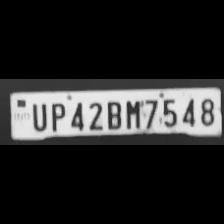2: (86, 99, 102, 131)
4: (66, 100, 86, 132), (179, 95, 197, 127)
5: (158, 96, 178, 128)
7: (140, 97, 158, 129)
8: (196, 95, 216, 127)
B: (104, 98, 122, 130)
M: (122, 98, 142, 130)
P: (46, 100, 66, 132)
U: (28, 100, 48, 132)
